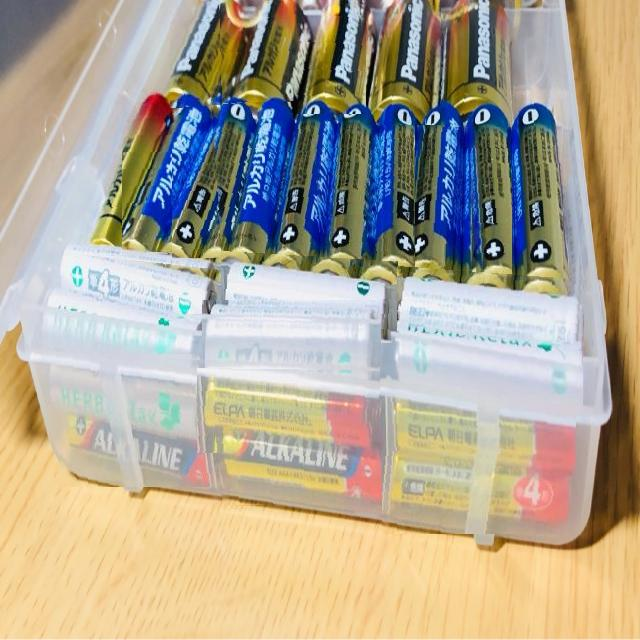battery: (202, 300, 382, 394), (391, 331, 583, 416), (221, 252, 398, 344), (388, 391, 576, 476), (78, 89, 172, 256), (198, 368, 382, 453), (382, 451, 568, 534), (122, 94, 218, 254), (397, 266, 587, 346), (214, 418, 384, 506), (211, 95, 296, 262), (172, 98, 256, 258), (58, 402, 212, 487), (262, 96, 338, 264), (48, 351, 208, 429), (310, 102, 379, 270), (358, 98, 424, 272), (50, 251, 229, 314), (219, 1, 319, 103), (366, 4, 449, 126), (292, 0, 380, 114), (34, 298, 213, 354), (441, 2, 519, 128), (511, 98, 563, 286), (464, 95, 514, 283), (416, 101, 466, 282), (170, 1, 248, 109)
